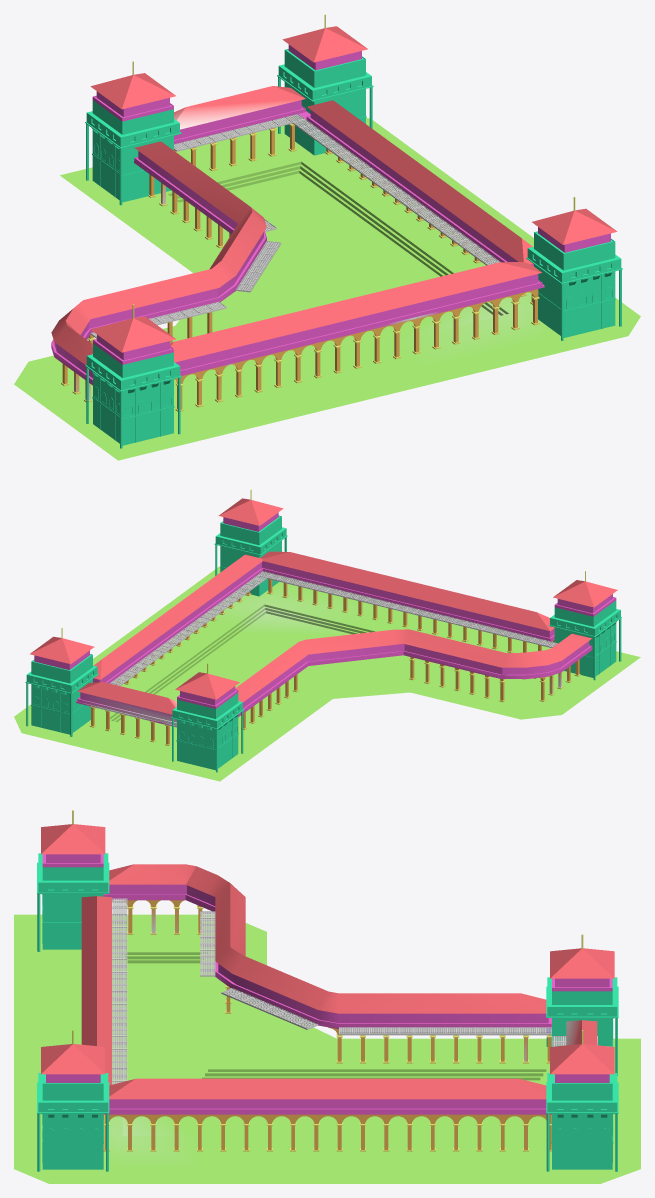
File: Thermes.fbx
3 views of the same model, one above another, from view 1: azimuth 30°, elevation 25°; view 2: azimuth 150°, elevation 25°; view 3: azimuth 270°, elevation 25° (orthographic). The views are drawn at different scales.
Visible parts, largest first — view 1: NewBuilding, Toiture, ToursTexture, ArchesTexture, WoodTreillis; view 2: NewBuilding, Toiture, ToursTexture, ArchesTexture, WoodTreillis; view 3: NewBuilding, Toiture, ToursTexture, ArchesTexture, WoodTreillis.
Part boxes in pixels (bbox=[...]): NewBuilding: bbox=[14, 118, 640, 460]; Toiture: bbox=[51, 26, 617, 385]; ToursTexture: bbox=[85, 53, 622, 448]; ArchesTexture: bbox=[61, 14, 575, 411]; WoodTreillis: bbox=[90, 114, 500, 338]; NewBuilding: bbox=[14, 566, 640, 781]; Toiture: bbox=[30, 498, 617, 727]; ToursTexture: bbox=[25, 519, 621, 772]; ArchesTexture: bbox=[61, 489, 585, 745]; WoodTreillis: bbox=[110, 571, 557, 685]; NewBuilding: bbox=[14, 914, 640, 1183]; Toiture: bbox=[41, 824, 614, 1114]; ToursTexture: bbox=[37, 853, 618, 1171]; ArchesTexture: bbox=[72, 810, 583, 1151]; WoodTreillis: bbox=[112, 898, 566, 1084].
Bounding box in the file's own units: 4194 × 981 × 4130.
